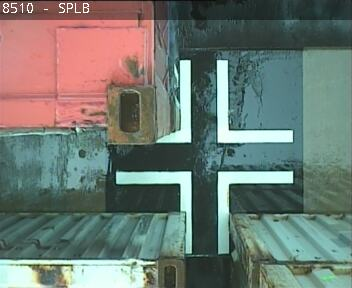groundmarker_1: (114, 170, 292, 254), (157, 60, 293, 143)
